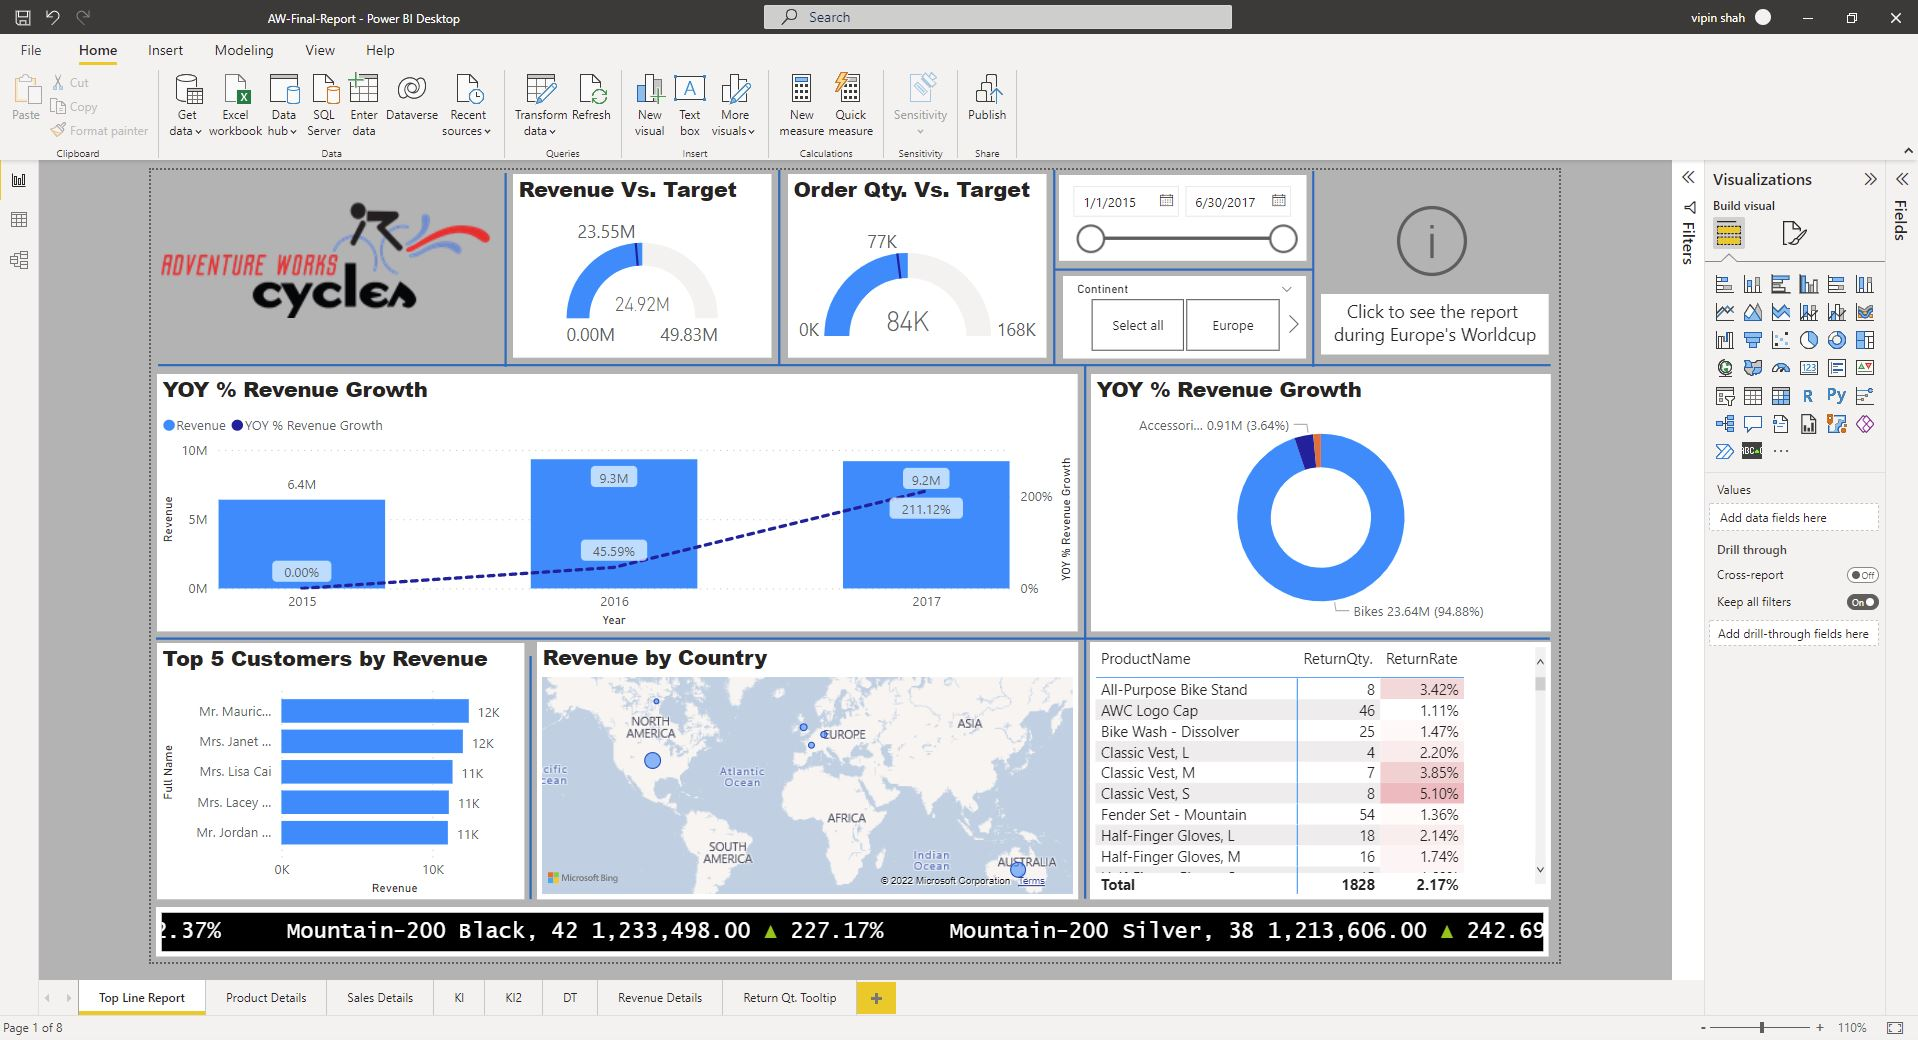

The dashboard page shown, as its layout file describes it:
{"tool":"powerbi","page":{"name":"Top Line Report","canvas":[1280,720],"ordinal":0},"visuals":[{"type":"image","box":[4.5,4.5,311.8,163.6],"z":0},{"type":"lineStackedColumnComboChart","title":"YOY % Revenue Growth","fields":{"Category":["d-Calendar.Year"],"Y":["All Measures.Revenue"],"Y2":["All Measures.YOY % Revenue Growth"]},"box":[5.5,185.5,916.4,233.6],"z":1000},{"type":"donutChart","title":"YOY % Revenue Growth","fields":{"Category":["d-Product-Categories.Category Name"],"Y":["All Measures.Revenue"]},"box":[934.5,184.5,336.4,233.6],"z":2000},{"type":"shape","box":[4.5,420,1267.3,11.8],"z":3000},{"type":"shape","box":[6.2,171.1,1266.2,13.3],"z":4000},{"type":"shape","box":[921.8,179.1,12.7,248.2],"z":5000},{"type":"barChart","title":"Top 5 Customers by Revenue","fields":{"Y":["All Measures.Revenue"],"Category":["d-Customers.Full Name"]},"box":[5.5,432.7,333.6,232.7],"z":6000},{"type":"shape","box":[339.1,426.4,11.8,236.4],"z":7000},{"type":"map","fields":{"Category":["d-Territories.Country"],"Size":["All Measures.Revenue"]},"box":[350.9,432.7,491.8,233.6],"z":8000},{"type":"shape","box":[842.7,426.4,12.7,236.4],"z":9000},{"type":"pivotTable","fields":{"Rows":["d-Products.ProductName"],"Values":["Sum(f-Returns.ReturnQuantity)","All Measures.Return Rate"]},"box":[855.5,432.7,417.3,230],"z":10000},{"type":"shape","box":[316.6,2.7,12.4,175.6],"z":11000},{"type":"gauge","title":"Revenue Vs. Target","fields":{"Y":["All Measures.Revenue"],"TargetValue":["All Measures.Target Revenue"]},"box":[329.1,3.6,234.5,167.3],"z":12000},{"type":"shape","box":[563.9,0,15.1,178.2],"z":13000},{"type":"gauge","title":"Order Qty. Vs. Target","fields":{"Y":["All Measures.Total Order Qty."],"TargetValue":["All Measures.Target Order Qty."]},"box":[579.1,3.6,234.5,167.3],"z":14000},{"type":"shape","box":[814,0,15.1,178.2],"z":15000},{"type":"slicer","fields":{"Values":["d-Calendar.Date"]},"box":[828.2,4.5,239.1,86.4],"z":16000},{"type":"shape","box":[821.8,90.9,251.8,11.8],"z":17000},{"type":"slicer","fields":{"Values":["d-Territories.Continent"]},"box":[827.3,102.7,240,68.2],"z":18000},{"type":"shape","box":[1065.5,0.9,15.5,178.2],"z":19000},{"type":"actionButton","box":[1080.9,10.9,190,80],"z":20000},{"type":"textbox","box":[1080.9,90.9,190,77.3],"z":21000},{"type":"ScrollingTextVisual1448795304508","fields":{"Category":["d-Products.ProductName"],"Measure Absolute":["All Measures.Revenue"],"Measure Deviation":["All Measures.YOY % Revenue Growth"]},"box":[4.5,670,1266.4,45.5],"z":22000}]}

Visuals, with their boxes on the page's 1280x720 design canvas (x1, y1, x2, y2). These are canvas units, not pixel positions in the 1918x1040 screenshot, which may show the page scaled, cropped or inside an application window:
image: bbox=[4, 4, 316, 168]
"YOY % Revenue Growth" lineStackedColumnComboChart: bbox=[6, 186, 922, 419]
"YOY % Revenue Growth" donutChart: bbox=[934, 184, 1271, 418]
shape: bbox=[4, 420, 1272, 432]
shape: bbox=[6, 171, 1272, 184]
shape: bbox=[922, 179, 934, 427]
"Top 5 Customers by Revenue" barChart: bbox=[6, 433, 339, 665]
shape: bbox=[339, 426, 351, 663]
map - d-Territories.Country x All Measures.Revenue: bbox=[351, 433, 843, 666]
shape: bbox=[843, 426, 855, 663]
pivotTable - d-Products.ProductName x Sum(f-Returns.ReturnQuantity): bbox=[856, 433, 1273, 663]
shape: bbox=[317, 3, 329, 178]
"Revenue Vs. Target" gauge: bbox=[329, 4, 564, 171]
shape: bbox=[564, 0, 579, 178]
"Order Qty. Vs. Target" gauge: bbox=[579, 4, 814, 171]
shape: bbox=[814, 0, 829, 178]
slicer - d-Calendar.Date: bbox=[828, 4, 1067, 91]
shape: bbox=[822, 91, 1074, 103]
slicer - d-Territories.Continent: bbox=[827, 103, 1067, 171]
shape: bbox=[1066, 1, 1081, 179]
actionButton: bbox=[1081, 11, 1271, 91]
textbox: bbox=[1081, 91, 1271, 168]
ScrollingTextVisual1448795304508 - d-Products.ProductName x All Measures.Revenue: bbox=[4, 670, 1271, 716]
